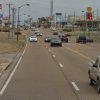Car: (42, 32, 66, 52)
